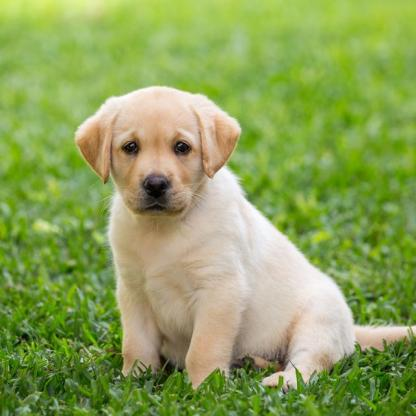dog: (74, 85, 416, 388)
